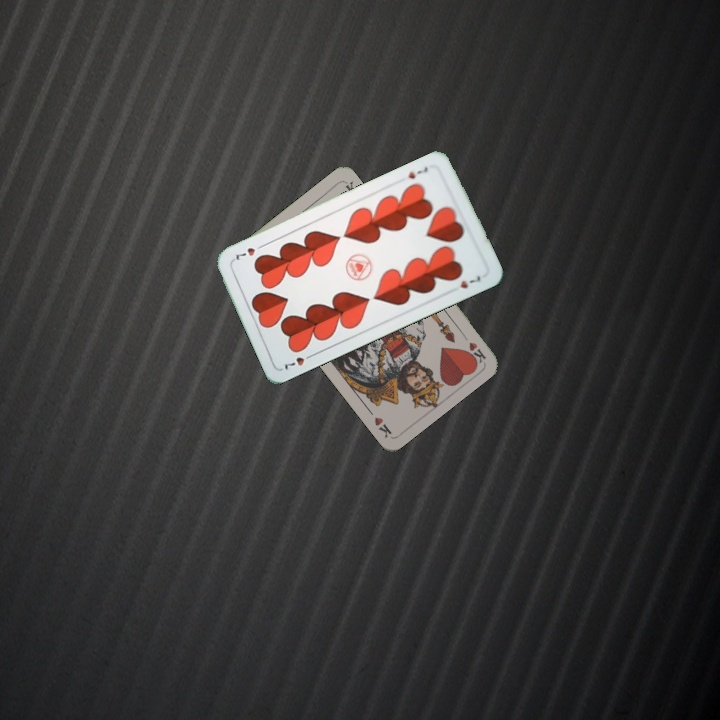H7: (279, 350, 317, 373), (404, 163, 430, 182)
HK: (458, 328, 488, 365)
